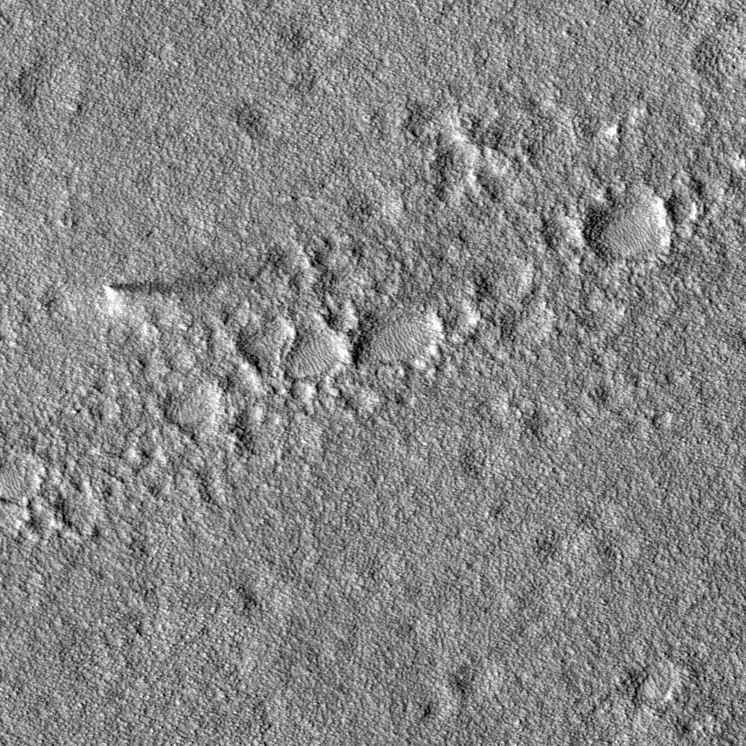dust_devil: (101, 278, 174, 309)
